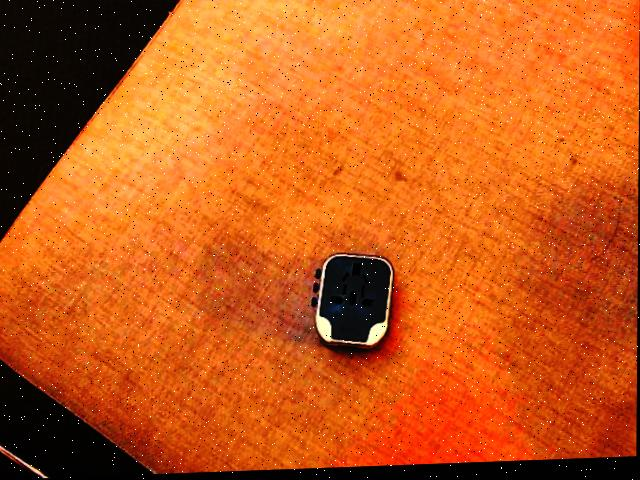adapter: (309, 254, 393, 354)
